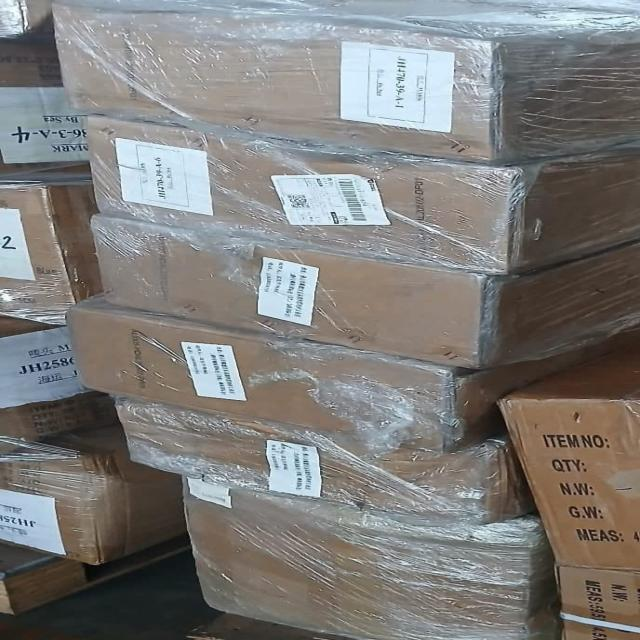carton_box: (56, 106, 640, 274), (39, 0, 636, 163), (68, 199, 636, 370), (128, 462, 626, 640), (119, 382, 566, 523)
export_mark_label: (332, 34, 468, 136), (107, 130, 233, 218), (168, 341, 264, 403), (258, 440, 347, 506), (249, 256, 321, 325)
